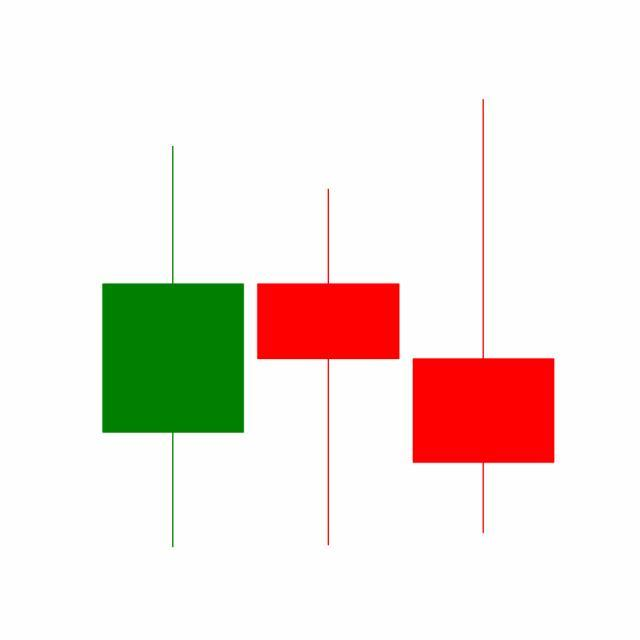Spinning Top: (250, 186, 407, 551)
